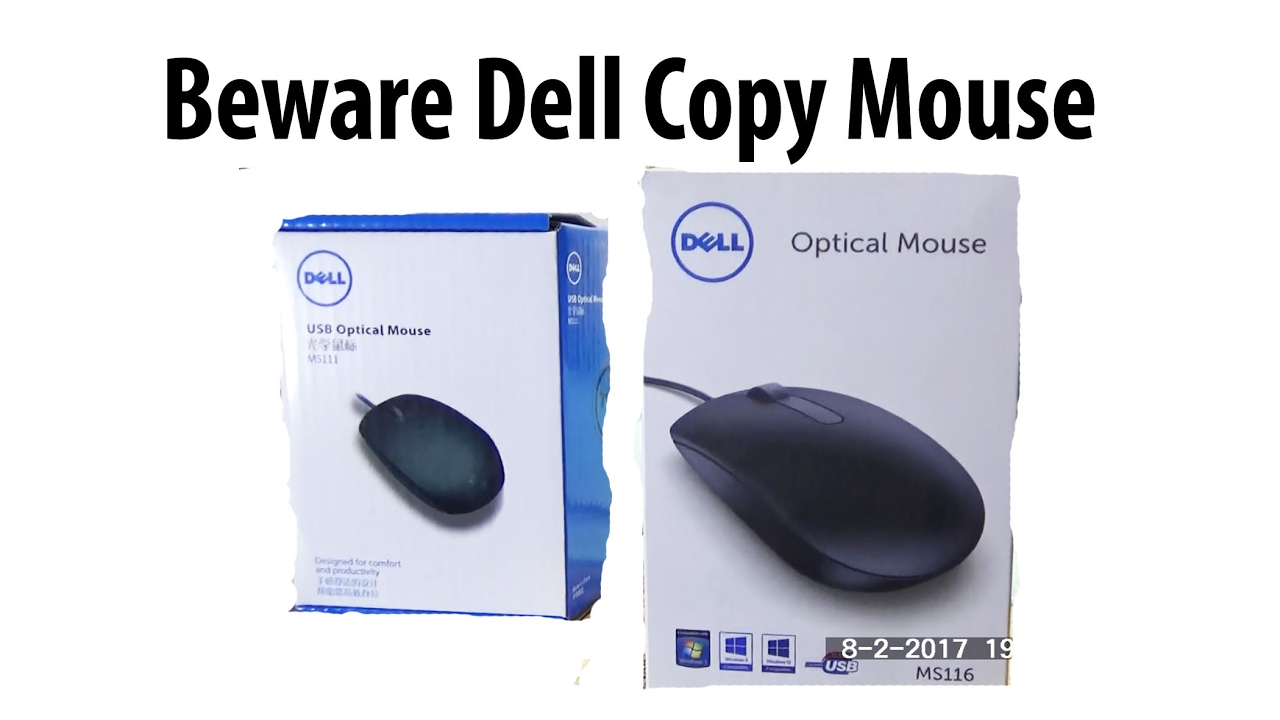dell-mouse-ms116: (640, 358, 988, 595)
